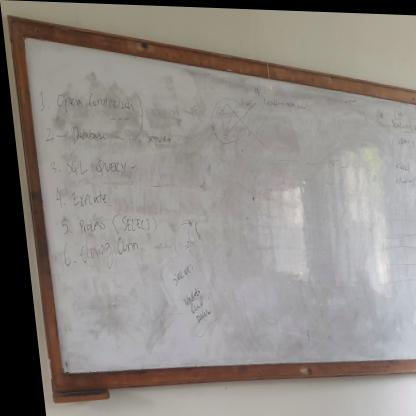Handwritten text: (155, 254, 214, 335), (51, 89, 137, 124), (70, 237, 140, 268), (59, 155, 128, 183), (64, 184, 107, 219), (65, 124, 109, 155), (114, 211, 149, 239), (70, 212, 106, 239)
